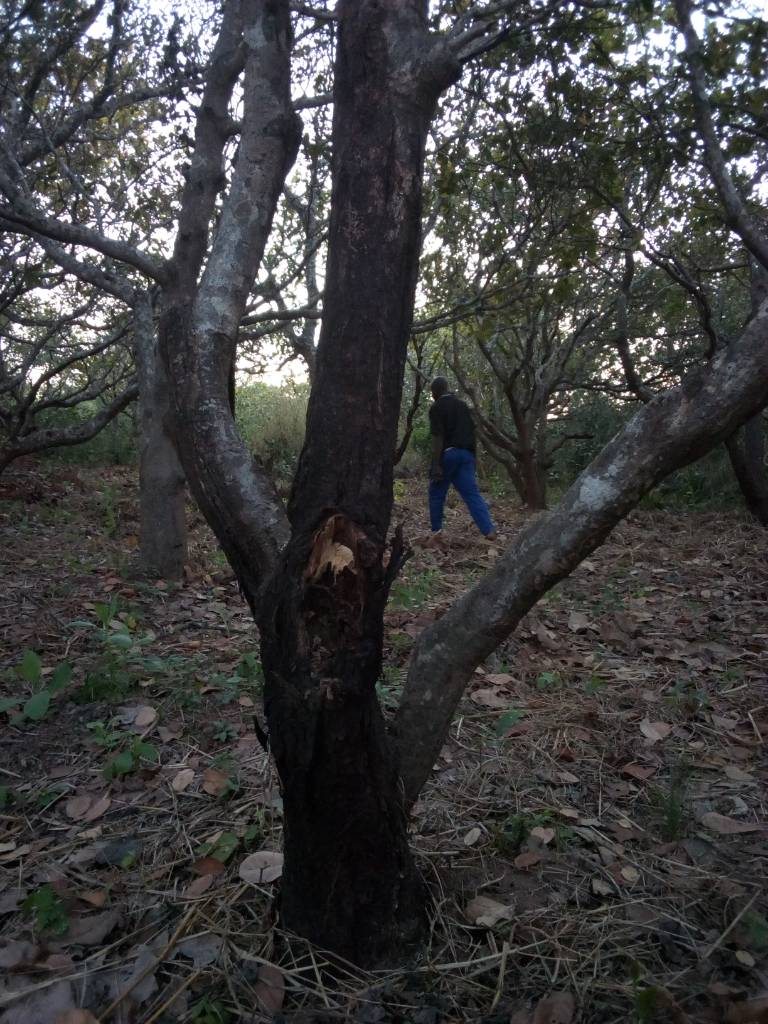Gommose: (333, 91, 422, 361), (149, 314, 246, 517)
